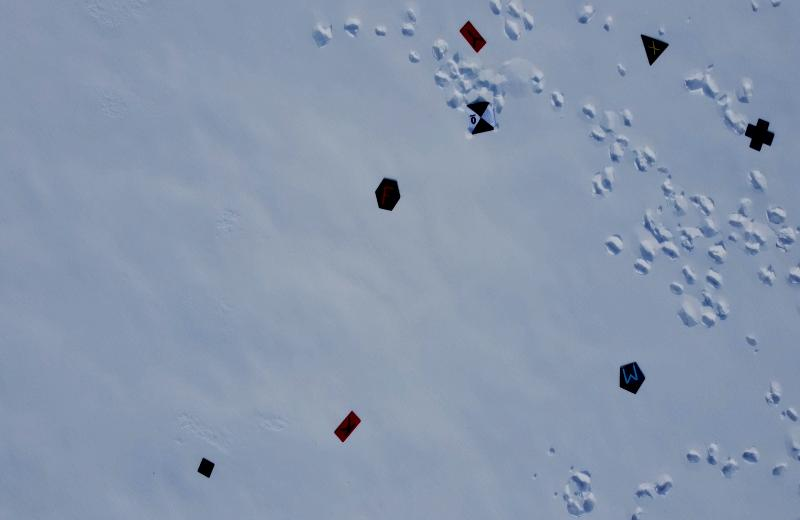Cross: (743, 114, 777, 152)
Hexagon: (372, 175, 404, 214)
Pentagon: (617, 360, 650, 399)
Rectangle: (332, 409, 362, 444), (458, 19, 486, 55)
Square: (195, 456, 215, 481)
Triangle: (638, 32, 670, 69)
